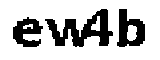4: (87, 6, 115, 52)
b: (117, 2, 150, 55)
e: (9, 16, 44, 51)
w: (44, 16, 90, 49)
